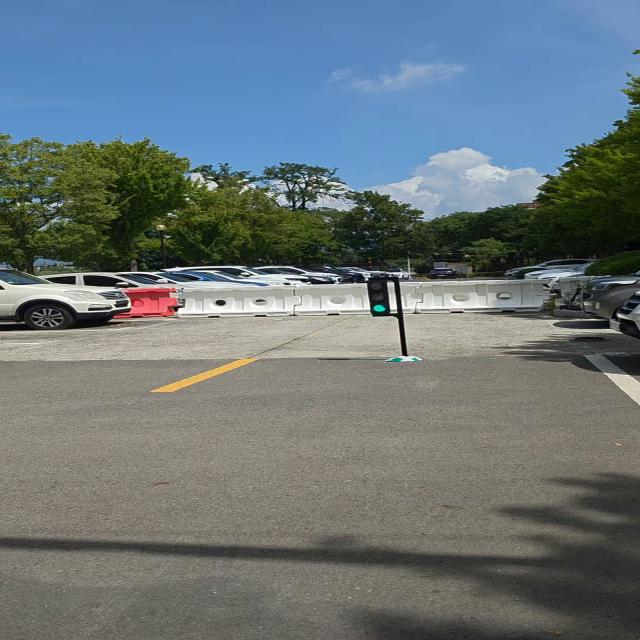green: (364, 276, 397, 318)
